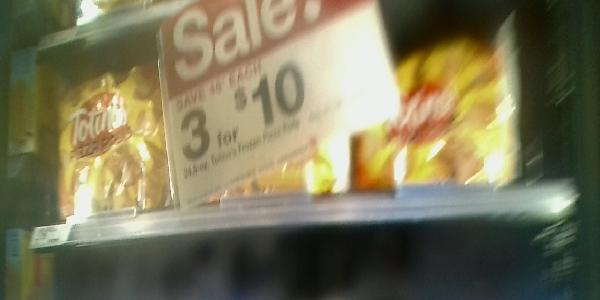icecream: (344, 39, 522, 187), (50, 65, 174, 217)
